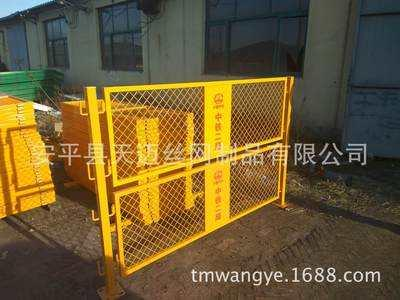sign: (81, 76, 296, 275)
